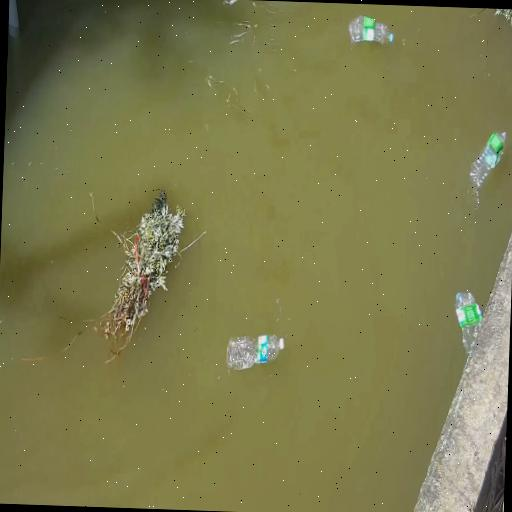plastic: (470, 132, 506, 189), (227, 335, 284, 370), (456, 293, 482, 354), (348, 16, 393, 45)
twig: (99, 190, 187, 361), (89, 192, 100, 223), (495, 8, 512, 26)
